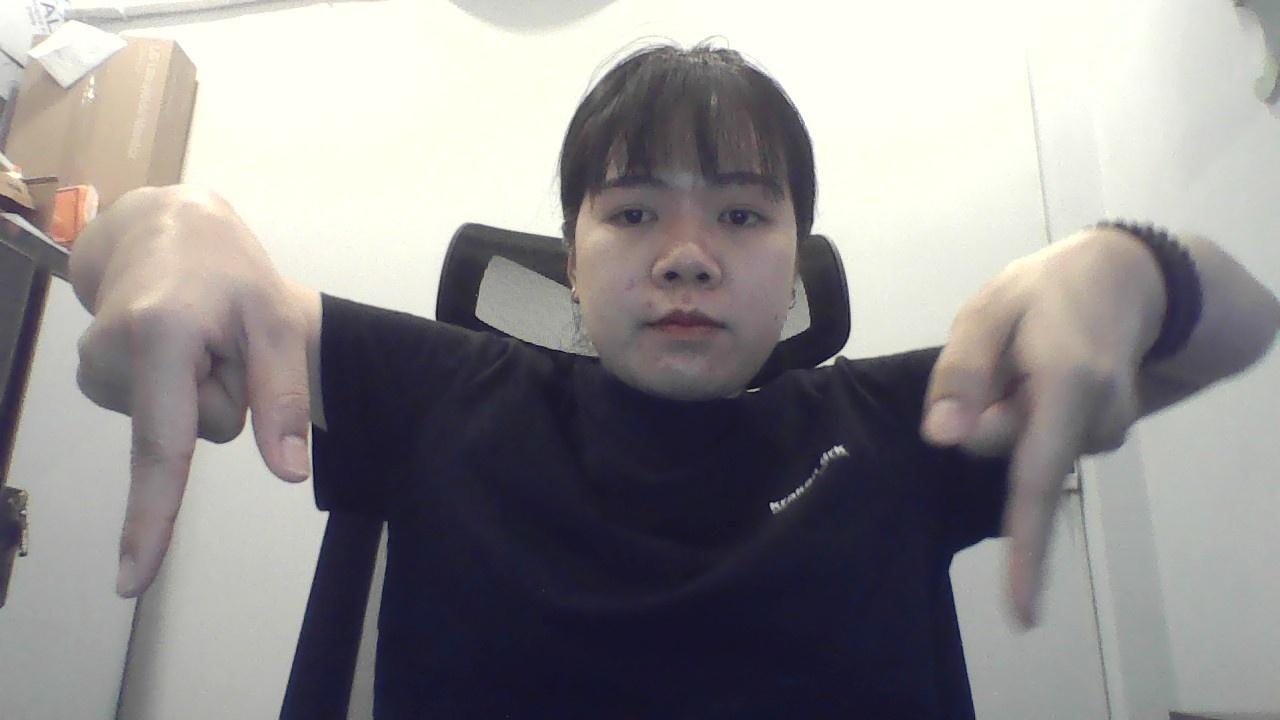Q: (75, 220, 328, 621), (924, 234, 1151, 655)
